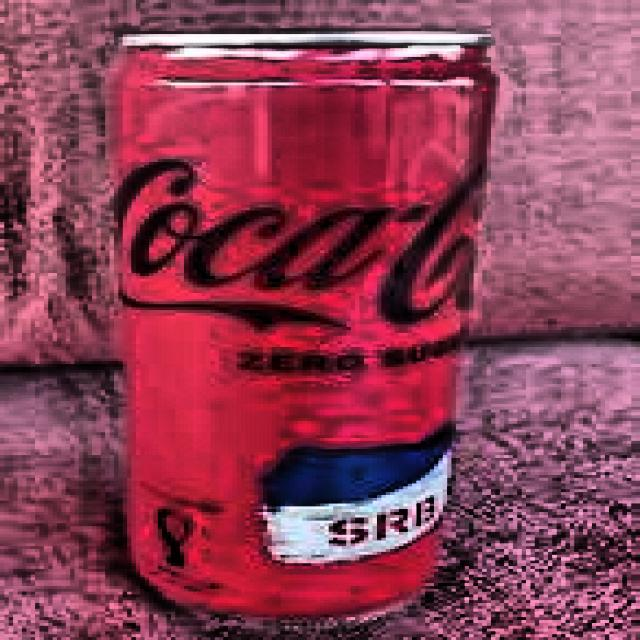Cans: (76, 7, 493, 638)
